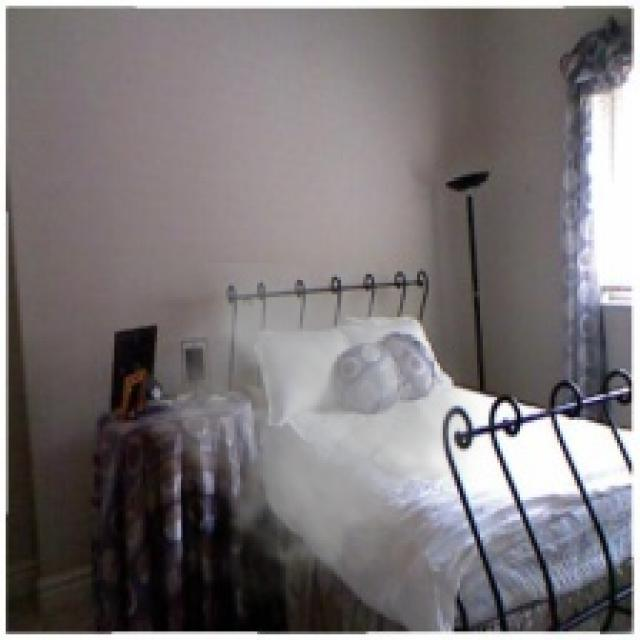smoke: (137, 263, 492, 608)
